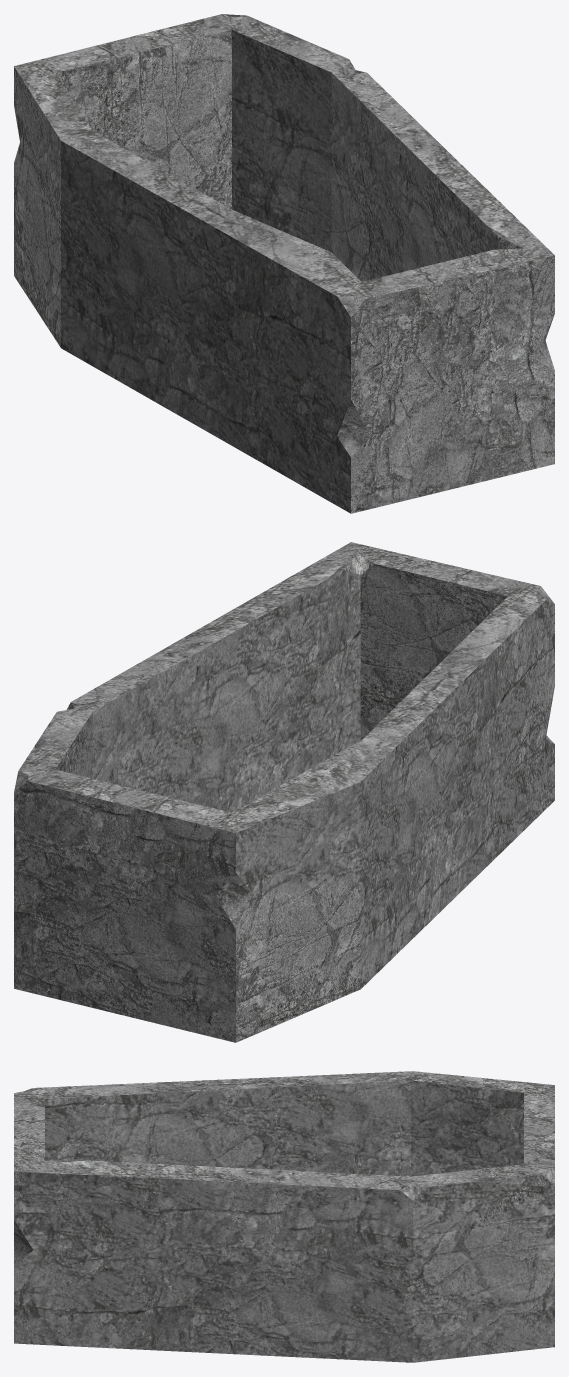
File: materials_3_coffin_1.fbx
3 views of the same model, one above another, from view 1: azimuth 30°, elevation 25°; view 2: azimuth 150°, elevation 25°; view 3: azimuth 270°, elevation 25° (orthographic). The views are drawn at different scales.
Parts seen in each view (by area): view 1: materials_3_coffin_1; view 2: materials_3_coffin_1; view 3: materials_3_coffin_1.
Boxes of the visible parts, left/top/right/bottom form: materials_3_coffin_1: left=14, top=14, right=554, bottom=513; materials_3_coffin_1: left=14, top=542, right=554, bottom=1042; materials_3_coffin_1: left=14, top=1071, right=554, bottom=1362.
Bounding box in the file's own units: 99.61 × 67.03 × 189.
